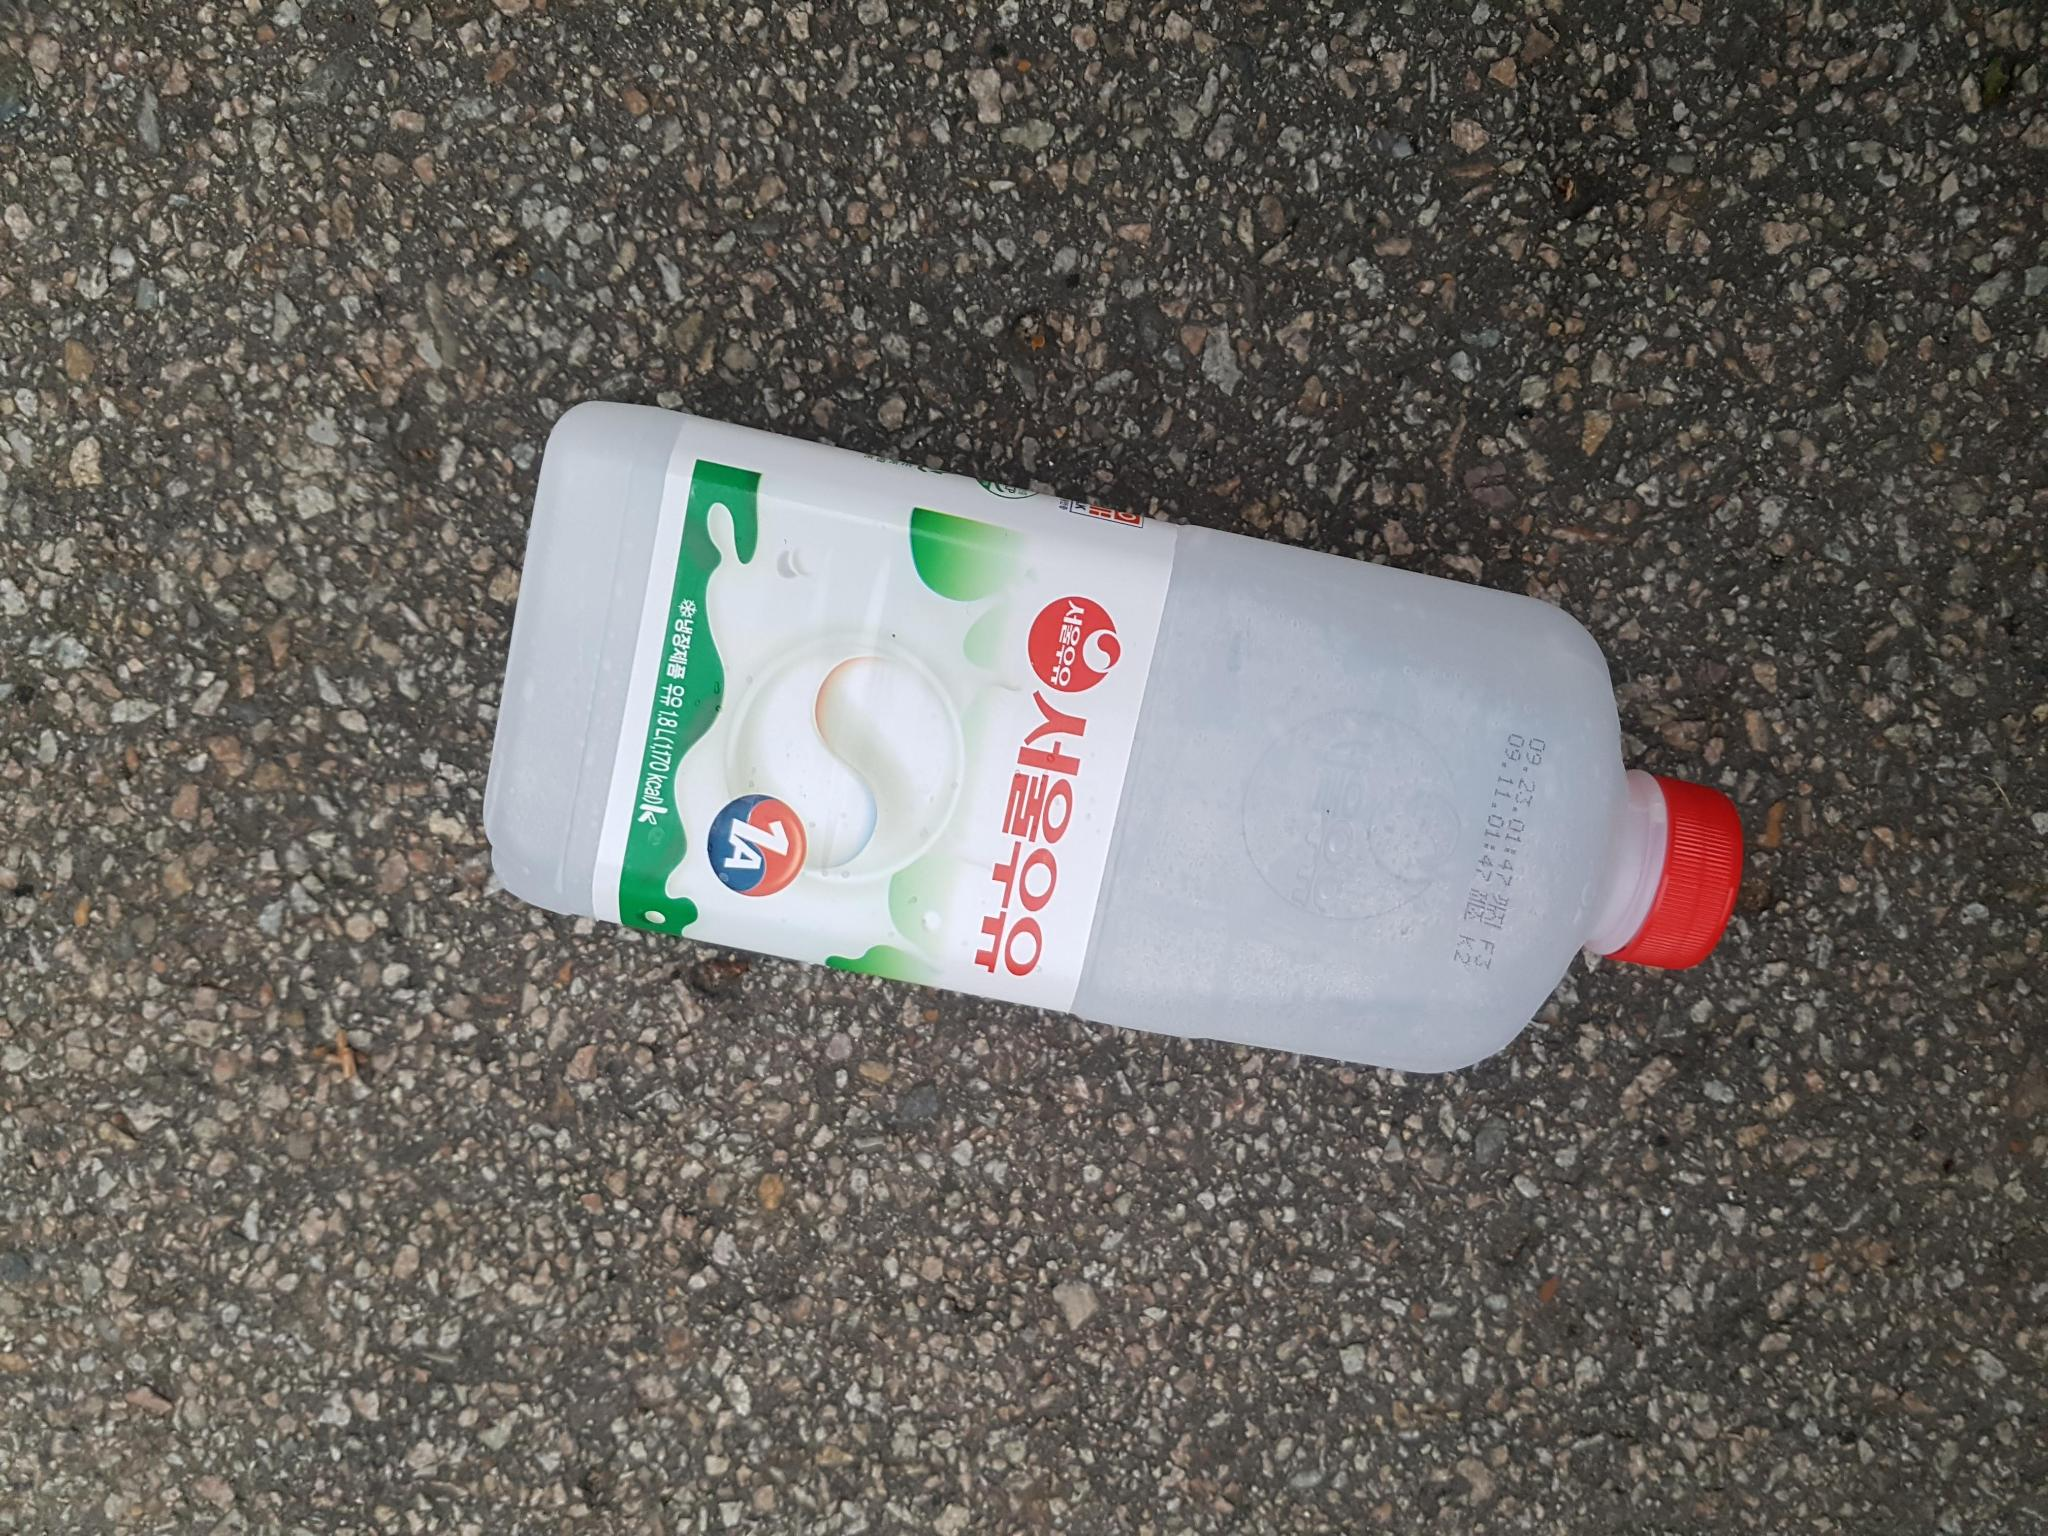bottle: (458, 361, 1782, 1087)
